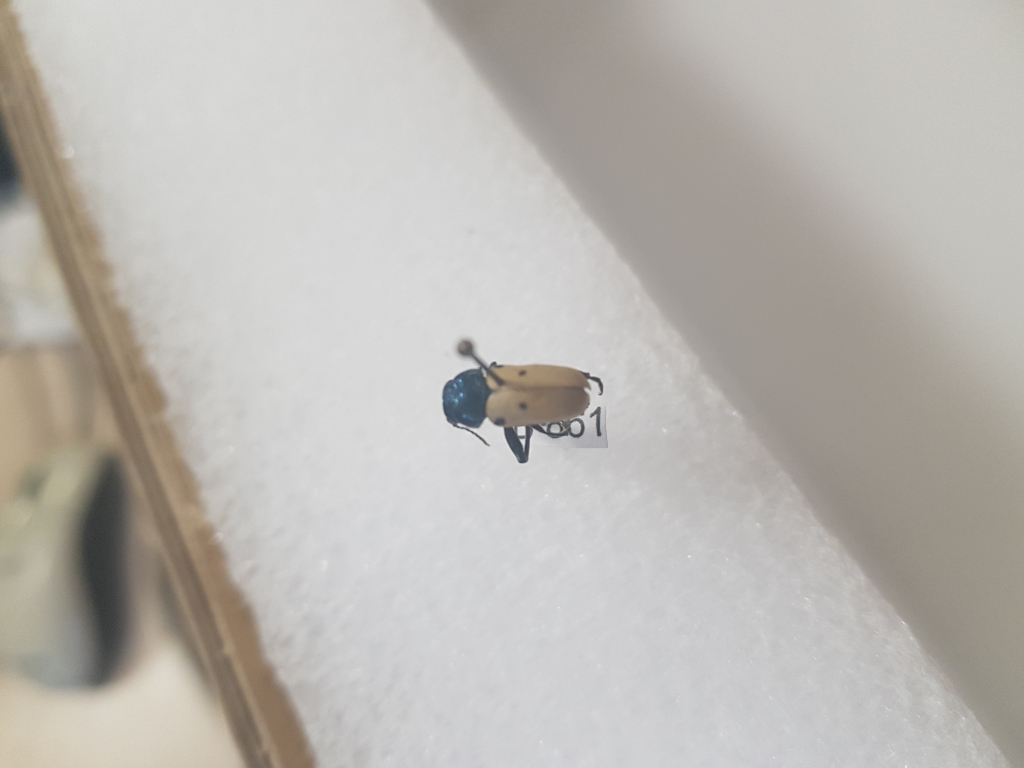Labidostomis_maculipennis: (432, 355, 606, 452)
